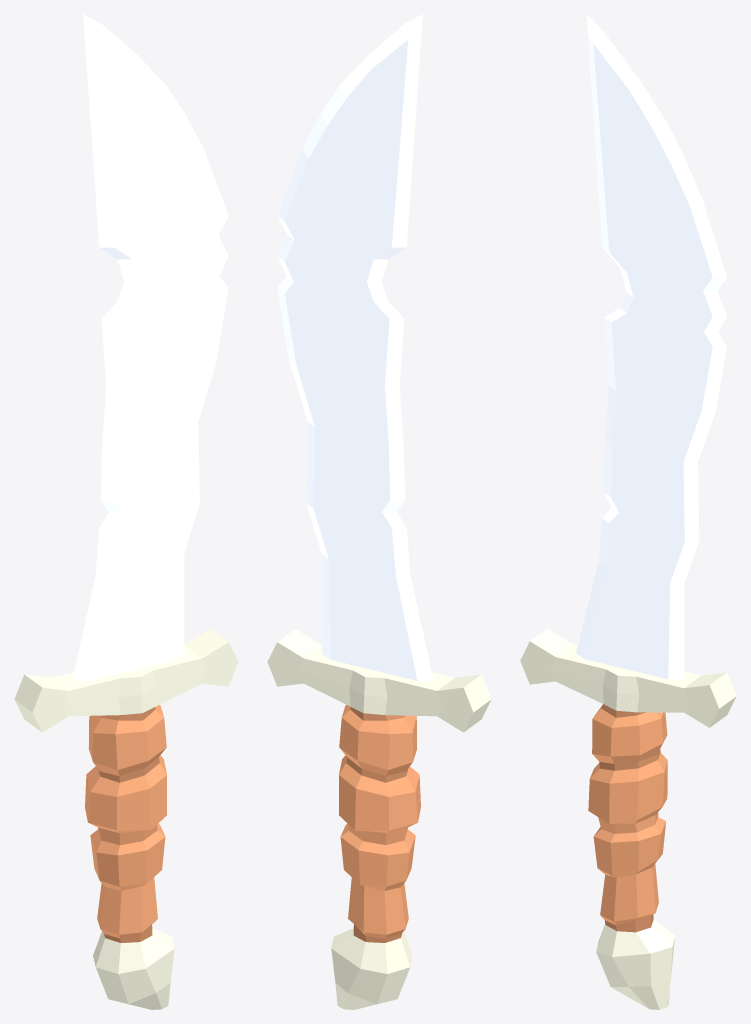
File: dagger.glb
3 renders of one model, left to right at view 1: azimuth 30°, elevation 25°; view 2: azimuth 150°, elevation 25°; view 3: azimuth 330°, elevation 25°, orthographic. The views are drawn at different scales.
Parts seen in each view (by area): view 1: Dagger; view 2: Dagger; view 3: Dagger.
Boxes of the visible parts, bbox=[...] form: Dagger: bbox=[14, 14, 238, 1009]; Dagger: bbox=[267, 14, 491, 1009]; Dagger: bbox=[520, 14, 736, 1009].
Bounding box in the file's own units: 0.0749 × 0.3501 × 0.028.
